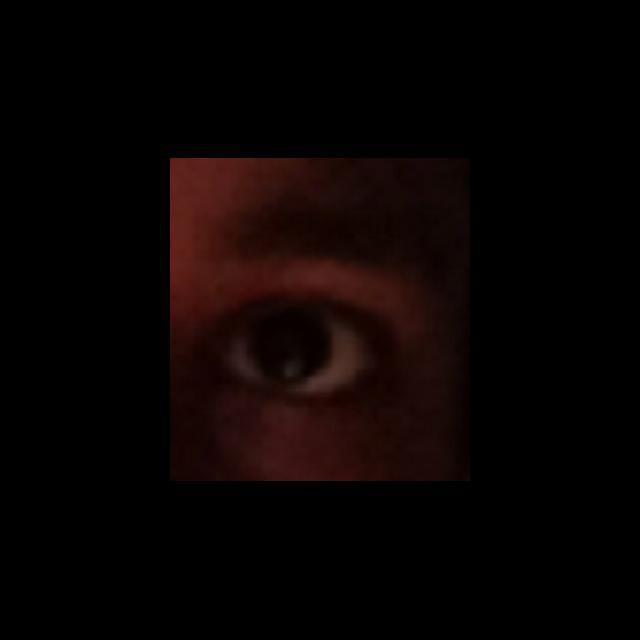eye: (226, 299, 368, 397)
iris: (250, 310, 333, 385)
